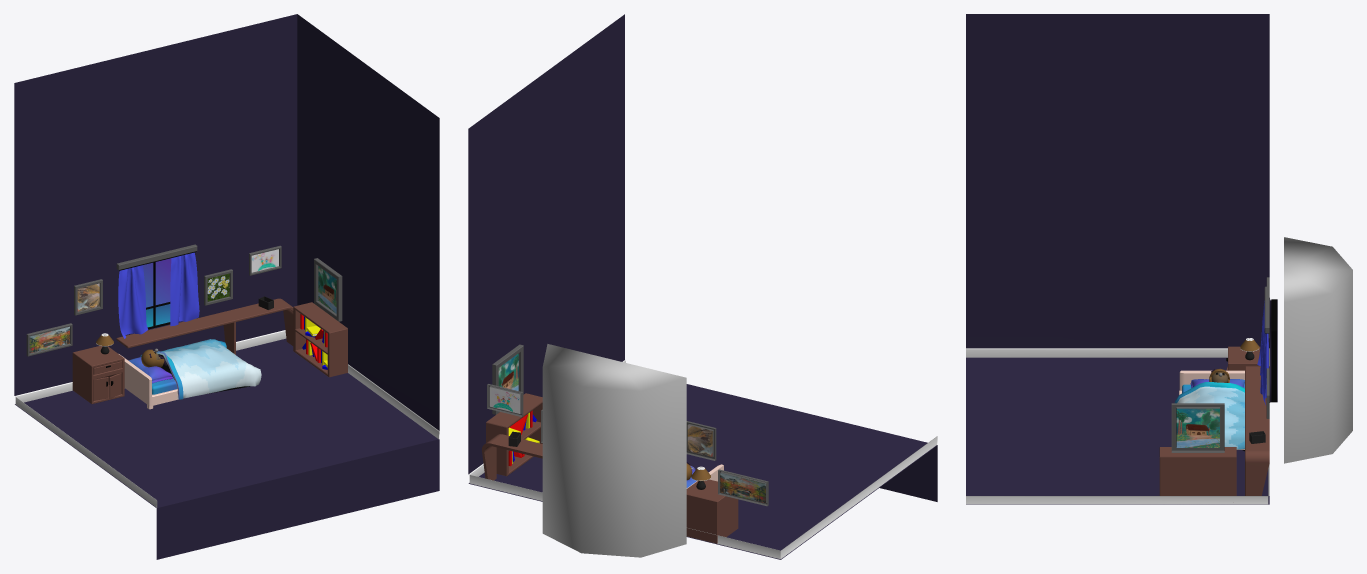
File: openscene.obj
3 renders of one model, left to right at view 1: azimuth 30°, elevation 25°; view 2: azimuth 150°, elevation 25°; view 3: azimuth 270°, elevation 25°, orthographic. The views are drawn at different scales.
Visible parts, largest first — view 1: room WallGround Environment, room Environment bag bed, room Environment group6 Desk2, room Environment Book pCube35, room Environment Desk1 pCube25, room Environment Window polySurface5, room Environment polySurface6 Window, room Environment Window window, room Environment bag pCube2, room Environment Painting Painting1, room Environment Painting Painting2, room Environment Painting Painting3 (+3 smaller); view 2: room WallGround Environment, room Environment Window outTheWindow, room Environment Desk1 pCube25, room Environment Book pCube35, room Environment Painting Painting2, room Environment Painting Painting1, room Environment group6 Desk2, room Environment Painting Painting3, room Environment Painting Painting4; view 3: room WallGround Environment, room Environment Window outTheWindow, room Environment Book pCube35, room Environment Painting Painting1, room Environment group6 Desk2, room Environment bag bed, room Environment Window window, room Environment bag pCube2, room Environment Desk1 pCube25.
Part boxes in pixels (left/top/right/bottom): room WallGround Environment: left=14, top=14, right=439, bottom=559; room Environment bag bed: left=140, top=339, right=261, bottom=399; room Environment group6 Desk2: left=116, top=298, right=293, bottom=354; room Environment Book pCube35: left=293, top=302, right=347, bottom=377; room Environment Desk1 pCube25: left=72, top=346, right=124, bottom=403; room Environment Window polySurface5: left=170, top=252, right=199, bottom=326; room Environment polySurface6 Window: left=118, top=265, right=148, bottom=338; room Environment Window window: left=129, top=258, right=179, bottom=334; room Environment bag pCube2: left=119, top=354, right=178, bottom=409; room Environment Painting Painting1: left=314, top=258, right=342, bottom=321; room Environment Painting Painting2: left=26, top=323, right=72, bottom=356; room Environment Painting Painting3: left=74, top=279, right=102, bottom=315; room WallGround Environment: left=468, top=14, right=937, bottom=559; room Environment Window outTheWindow: left=542, top=344, right=686, bottom=557; room Environment Desk1 pCube25: left=686, top=479, right=738, bottom=543; room Environment Book pCube35: left=486, top=393, right=542, bottom=476; room Environment Painting Painting2: left=718, top=469, right=768, bottom=506; room Environment Painting Painting1: left=492, top=344, right=523, bottom=414; room Environment group6 Desk2: left=482, top=434, right=542, bottom=480; room Environment Painting Painting3: left=686, top=421, right=716, bottom=460; room Environment Painting Painting4: left=487, top=384, right=523, bottom=416; room WallGround Environment: left=966, top=14, right=1277, bottom=504; room Environment Window outTheWindow: left=1284, top=237, right=1352, bottom=463; room Environment Book pCube35: left=1159, top=447, right=1236, bottom=495; room Environment Painting Painting1: left=1171, top=403, right=1224, bottom=452; room Environment group6 Desk2: left=1245, top=366, right=1269, bottom=495; room Environment bag bed: left=1174, top=382, right=1244, bottom=451; room Environment Window window: left=1271, top=299, right=1276, bottom=402; room Environment bag pCube2: left=1179, top=370, right=1244, bottom=449; room Environment Desk1 pCube25: left=1228, top=346, right=1260, bottom=370.
Bounding box in the file's own units: 57.29 × 72.16 × 63.51.
